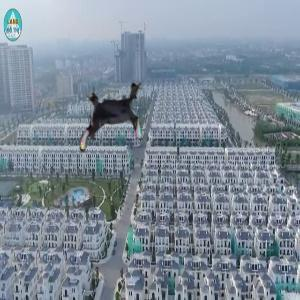drone: (72, 77, 153, 158)
